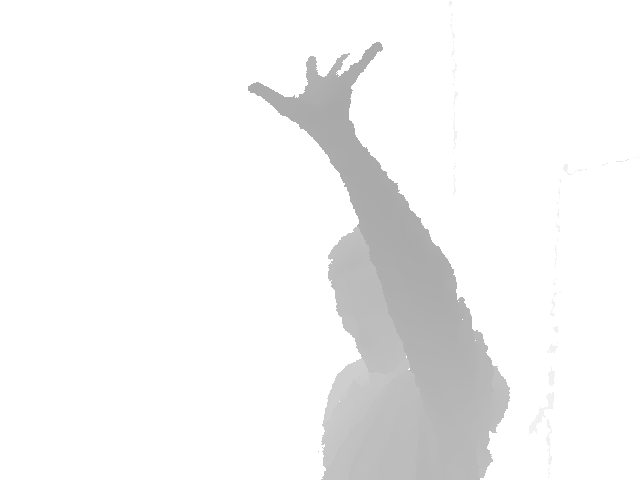hand: (246, 40, 385, 134)
head: (327, 221, 419, 373)
person: (247, 40, 512, 479)
